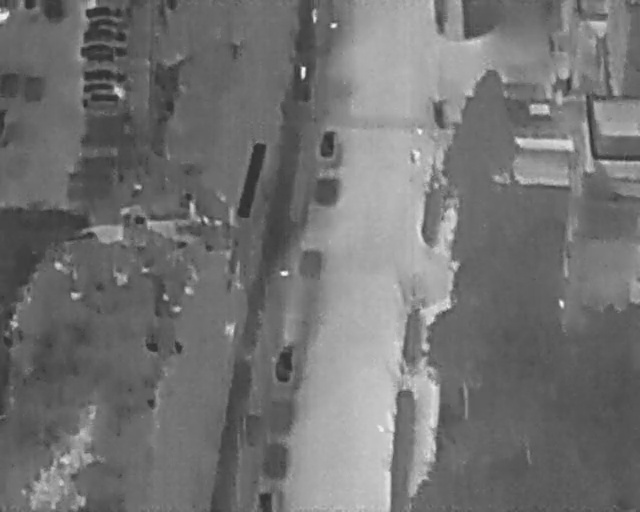Car: (273, 341, 296, 383), (317, 128, 338, 158), (258, 490, 274, 512)
Person: (312, 8, 318, 24), (300, 65, 306, 80)
